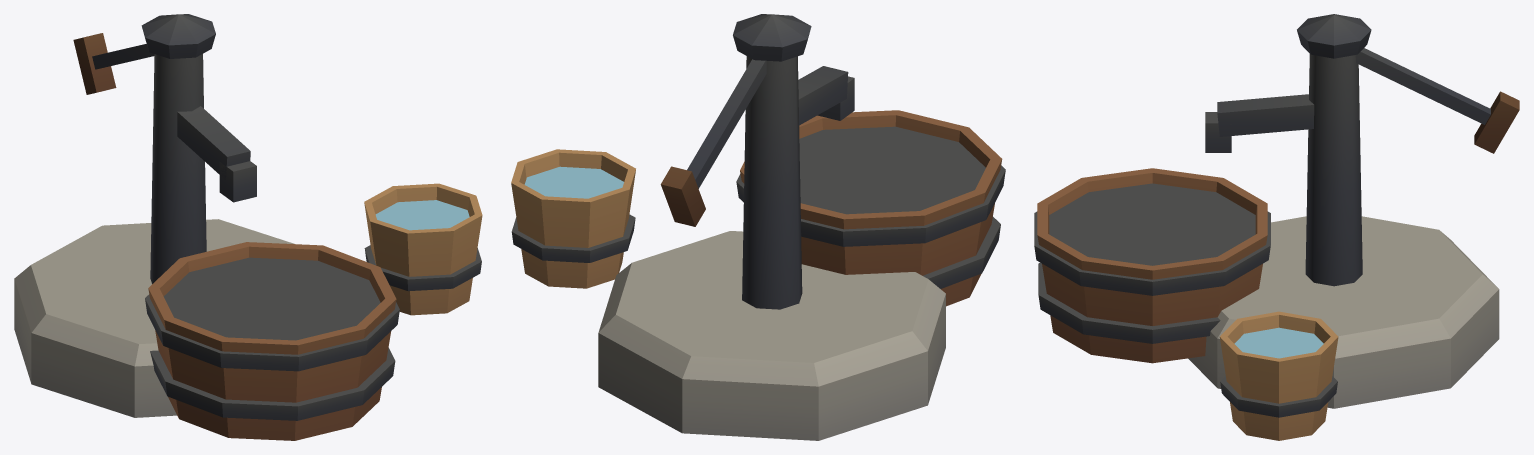
File: res_water.glb
The picture shows the model from 3 angles, left to right: view 1: azimuth 30°, elevation 25°; view 2: azimuth 150°, elevation 25°; view 3: azimuth 270°, elevation 25°; orthographic projection. The views are drawn at different scales.
Parts seen in each view (by area): view 1: res_water; view 2: res_water; view 3: res_water.
Boxes of the visible parts, x1,y1,x2,y2 form: res_water: (14,14,482,440); res_water: (511,14,1005,440); res_water: (1034,14,1519,440).
Size of the model in its own units: 4.24 by 3.25 by 4.41.
Materials: 1 (1 with a texture image).
